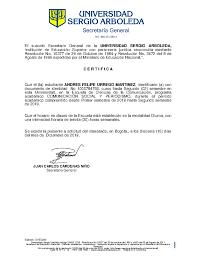certificado: (0, 0, 196, 255)
firma: (27, 141, 94, 172)
institucion: (46, 3, 151, 28)
nombre: (63, 80, 138, 87)
